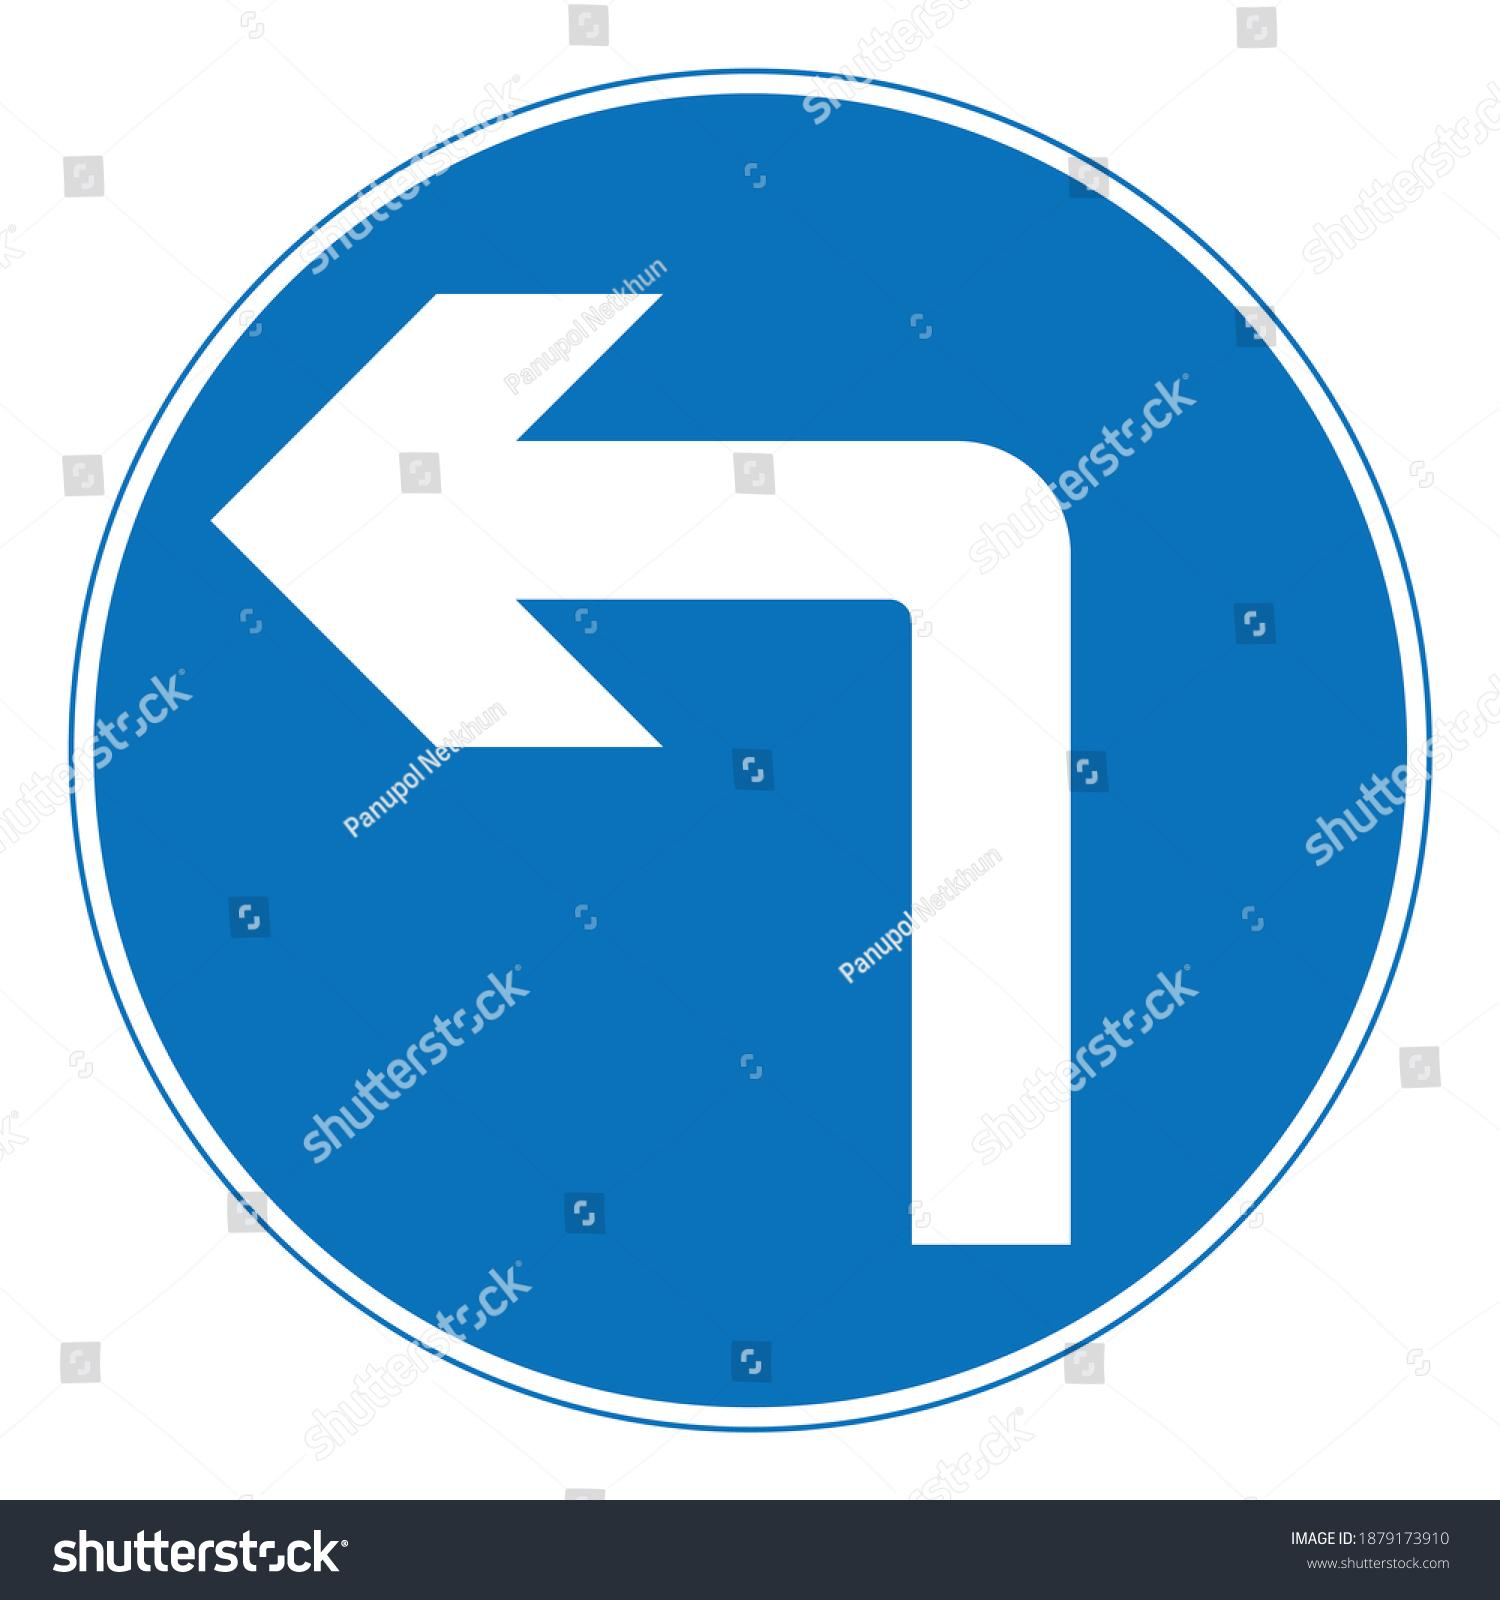Left hand curve: (107, 111, 1376, 1332)
